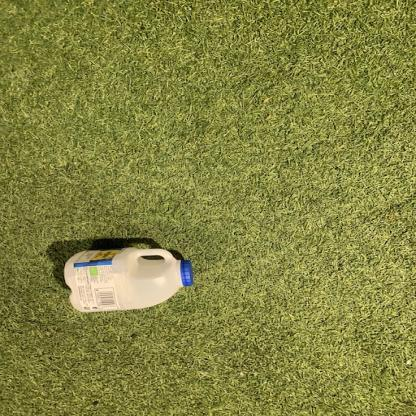trash: (63, 247, 192, 314)
